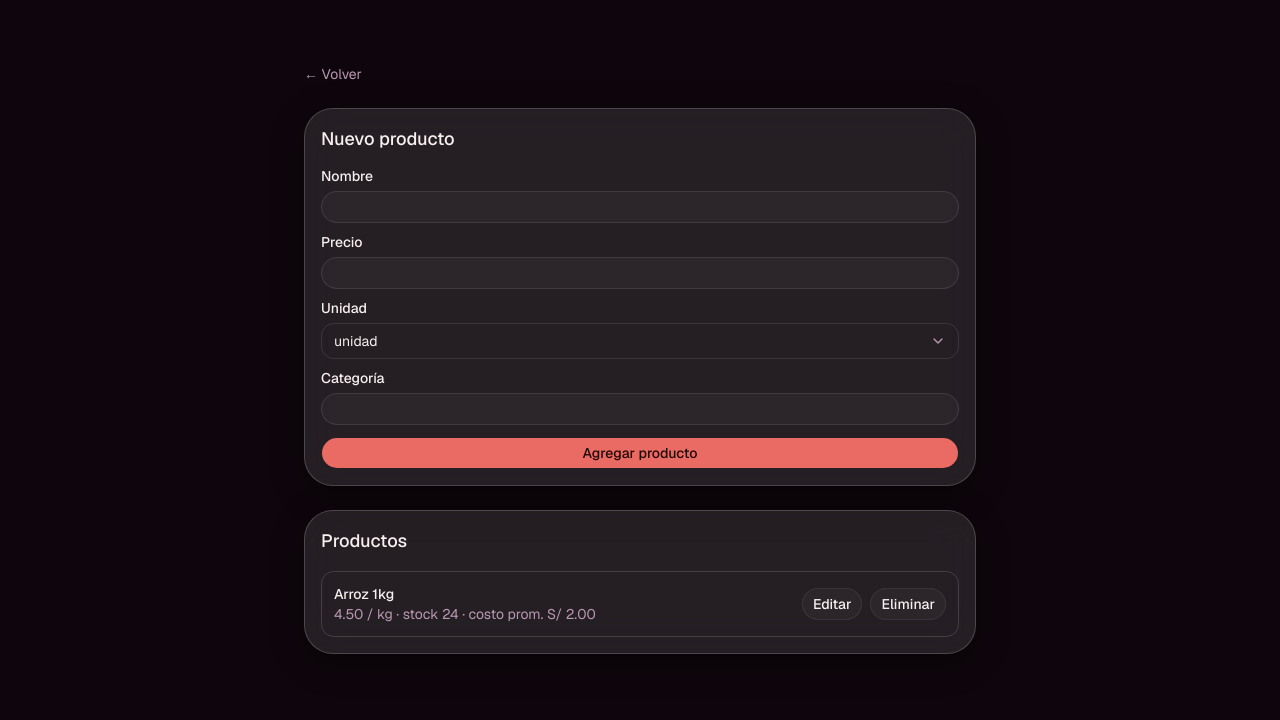
ProductsPage delete flow › does not delete when Cancelar is clicked
The width and height of the screenshot is (1280, 720).
Click the button "Eliminar".
click(908, 604)  # box [870,588,946,620]
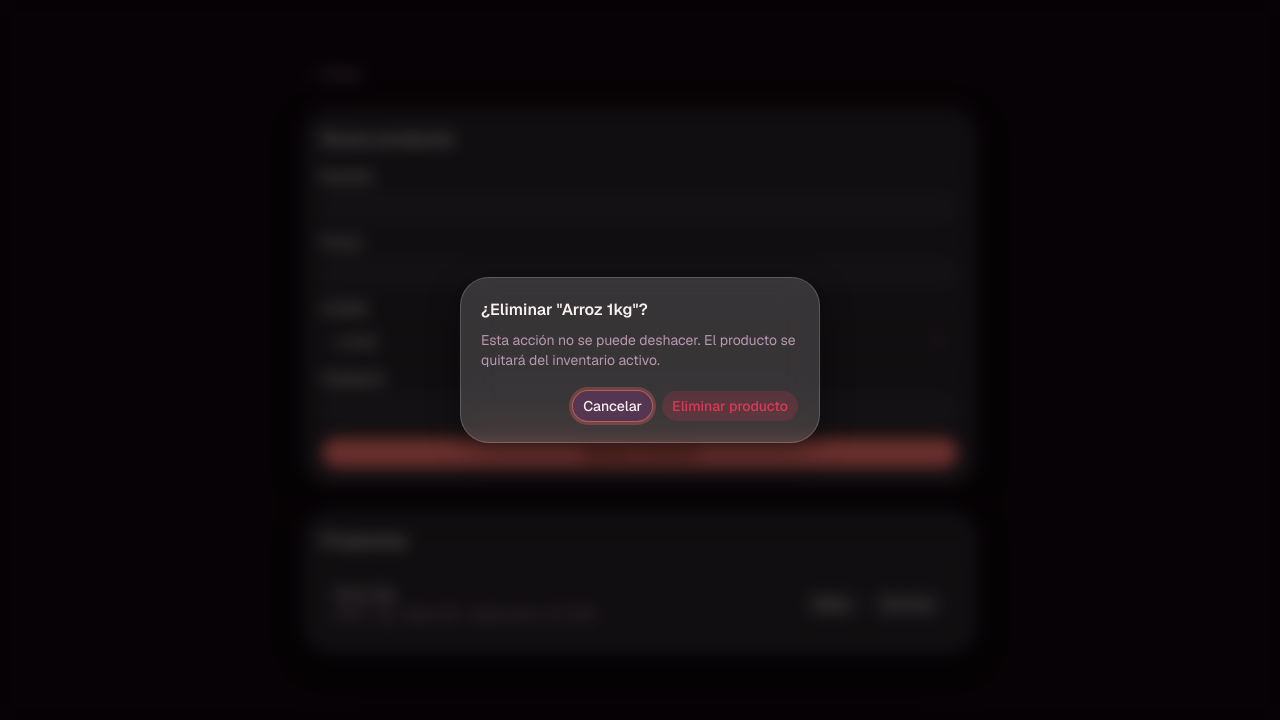
Click the button "Cancelar".
click(613, 406)  # box [572,390,653,422]
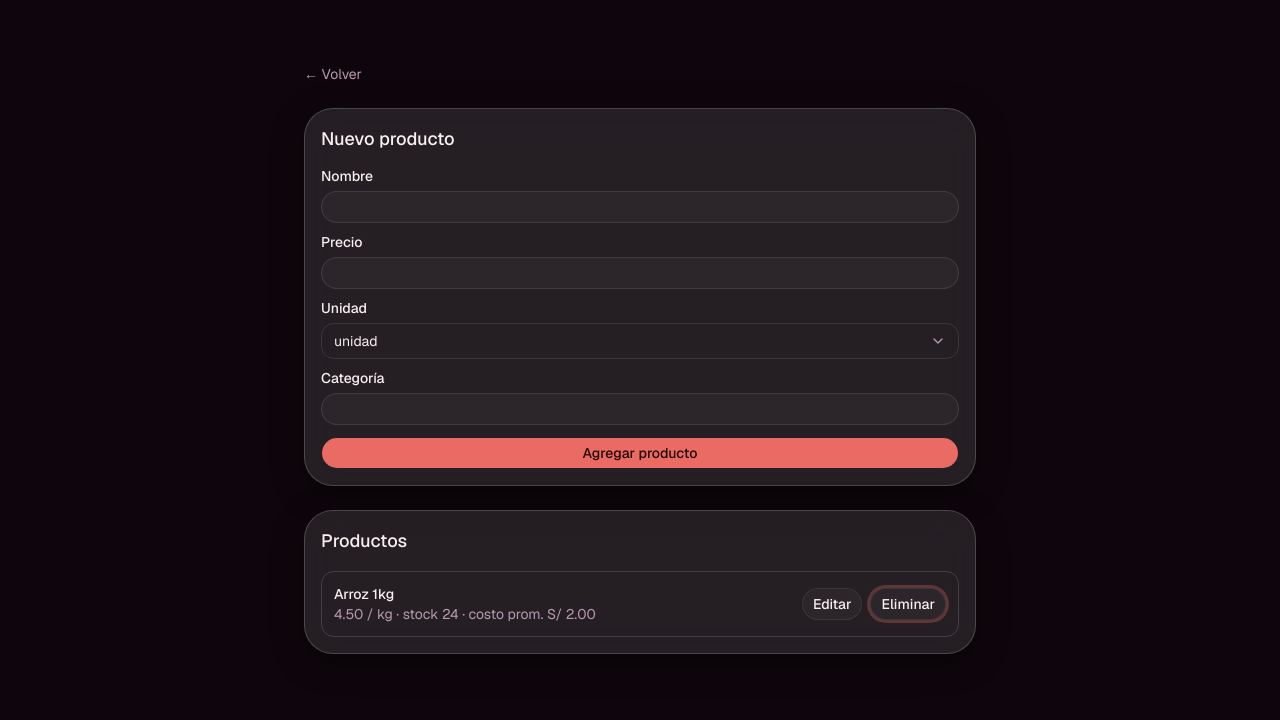
Expected: the text "Arroz 1kg" is shown, [334,585,394,603]
Expected: the heading "¿Eliminar \"Arroz 1kg\"?" is gone
